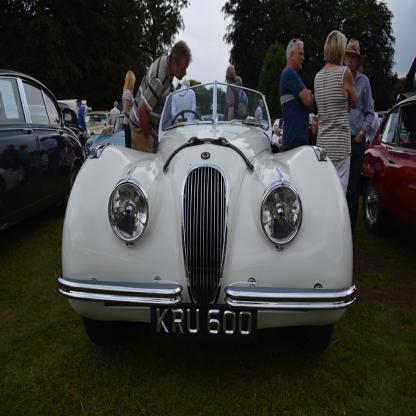Car: (1, 71, 416, 354), (1, 74, 89, 245), (361, 94, 416, 232)
